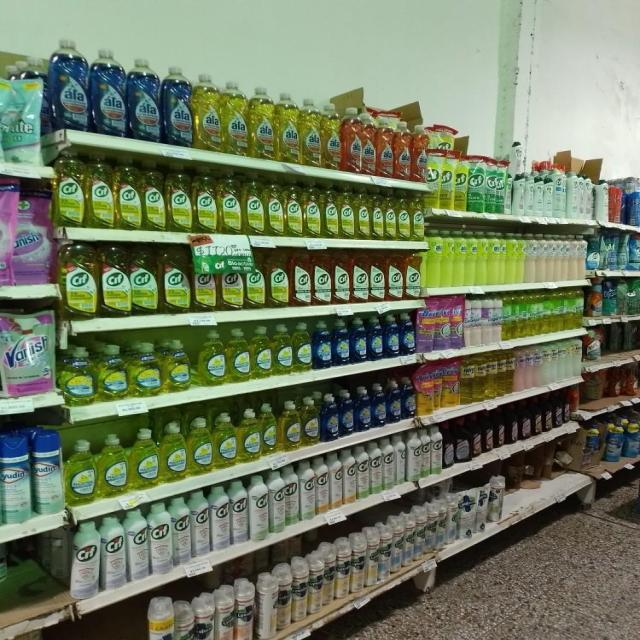ala_conc_amarillo: (194, 72, 222, 151), (222, 79, 249, 156), (250, 84, 275, 160), (276, 91, 299, 164), (300, 96, 322, 167), (322, 100, 342, 170), (360, 109, 376, 175)
ala_conc_azul: (50, 38, 89, 132), (91, 46, 127, 138), (129, 56, 161, 142), (163, 64, 193, 147)
ala_conc_rojo: (342, 106, 361, 174), (376, 116, 394, 178), (394, 120, 412, 180), (412, 123, 428, 182)
ala_crem_amarillo: (426, 230, 441, 288), (509, 232, 524, 284), (488, 232, 502, 285), (442, 230, 454, 288), (454, 231, 466, 287), (467, 231, 478, 286), (477, 232, 488, 286), (499, 232, 508, 284)
ala_crem_blanco: (524, 233, 536, 283), (537, 234, 546, 282)
cif_conc_bot_amarilla: (61, 240, 98, 319), (55, 149, 85, 227), (100, 244, 130, 317), (86, 152, 114, 229), (160, 244, 190, 314), (130, 244, 158, 316), (115, 155, 141, 230), (166, 162, 192, 232), (142, 159, 165, 231), (193, 165, 217, 234), (192, 250, 217, 312), (218, 169, 241, 235), (219, 251, 243, 311), (242, 172, 264, 236), (267, 248, 289, 308), (245, 248, 265, 309), (265, 175, 284, 237), (284, 178, 302, 238), (303, 180, 321, 238), (322, 182, 338, 238), (339, 184, 354, 239), (355, 185, 369, 240), (410, 191, 424, 241), (371, 187, 384, 240), (396, 189, 409, 241), (384, 188, 396, 240)
cif_conc_botella_roja: (290, 248, 312, 307), (312, 248, 332, 306), (334, 249, 351, 305), (351, 250, 368, 304), (404, 250, 421, 300), (369, 250, 385, 303), (387, 251, 403, 301)
cif_conc_botella_verde: (455, 418, 470, 464), (444, 421, 454, 467)
cif_conc_sachet_amarillo: (440, 153, 453, 210), (454, 156, 467, 211)
cif_conc_sachet_verde: (484, 159, 500, 213), (468, 157, 483, 212)
magistral_con_amarillo: (60, 346, 96, 405), (65, 439, 96, 505), (98, 433, 128, 498), (129, 342, 162, 397), (130, 428, 159, 490), (97, 344, 128, 401), (196, 329, 226, 386), (163, 339, 192, 393), (161, 421, 186, 483), (188, 417, 212, 476), (228, 328, 250, 382), (272, 324, 293, 375), (251, 326, 271, 379), (293, 322, 312, 372), (302, 396, 320, 446)
magistral_con_azul: (313, 321, 332, 369), (321, 393, 339, 442), (333, 319, 350, 366), (351, 318, 367, 364), (355, 386, 371, 432), (400, 312, 416, 356), (368, 316, 383, 360), (384, 315, 399, 358), (340, 390, 354, 436), (372, 383, 386, 428), (387, 380, 401, 424)
